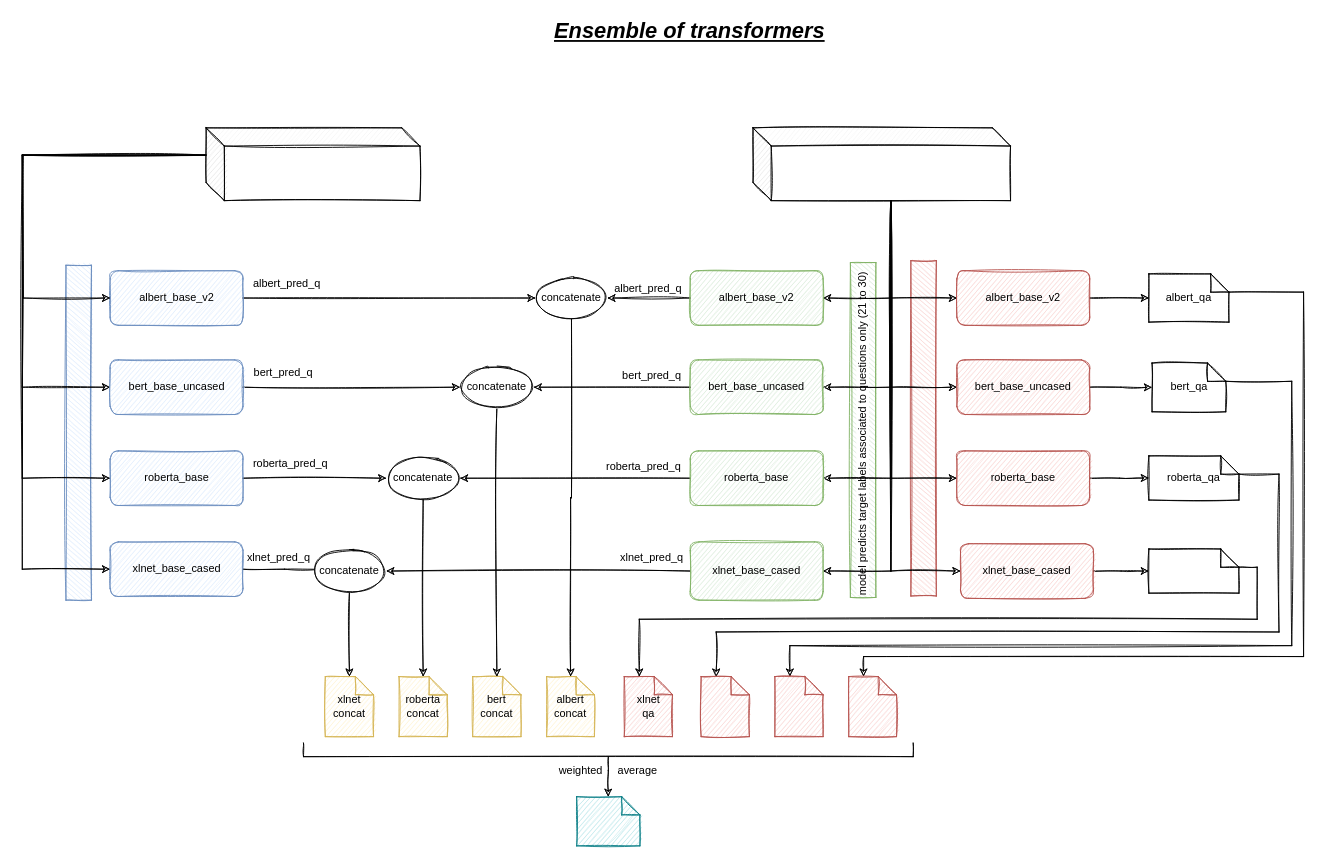
Image size: 1327x862. Some labels were removed from this diagram. The box of each missing label's shape, as (x1, y1, x2, y2) in pixels:
albert qa: (848, 676, 897, 737)
bert qa: (774, 676, 823, 737)
Data (Questions_title + Questoin_body + Answer): (752, 127, 1011, 201)
Data (Questions_title + Questoin_body): (205, 127, 420, 201)
final output: (576, 796, 640, 846)
model predicts all the target labels (all 30): (910, 260, 936, 596)
model predicts target labels associated to questions only (first 21): (65, 264, 91, 600)
roberta qa: (700, 676, 749, 737)
xlnet_qa: (1148, 548, 1239, 593)
